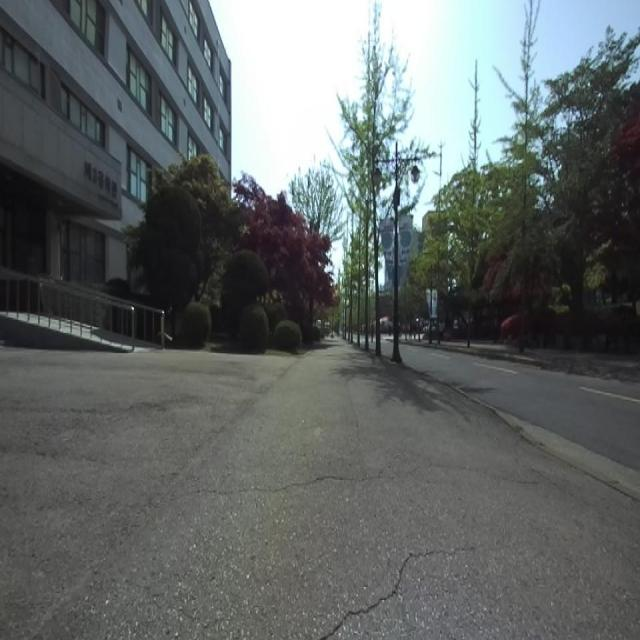sidewalk: (0, 339, 640, 638)
